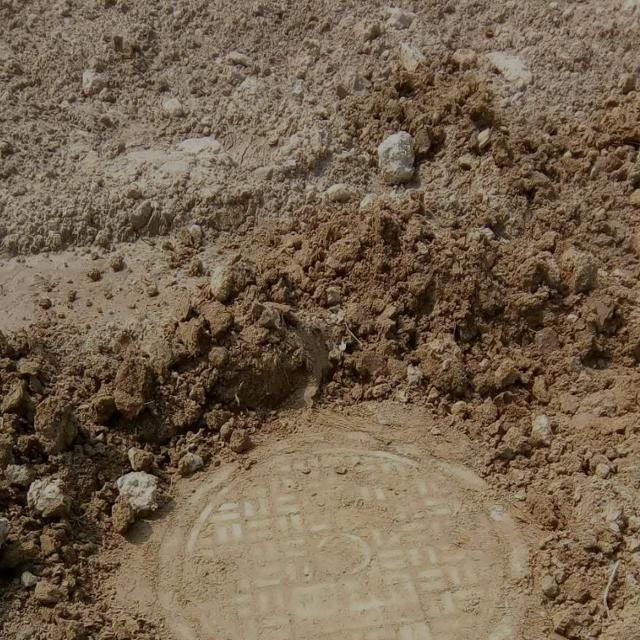good: (155, 432, 532, 640)
